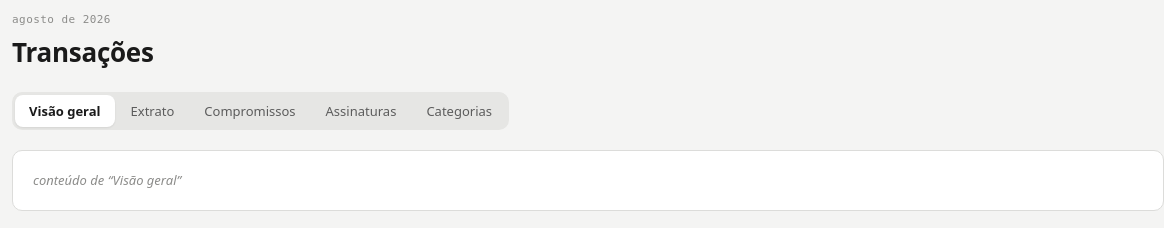
Test case: TelaTransacoes › mostra a tela de Compromissos ao selecionar o segmento Compromissos
Step 1. Click the tab "Compromissos" → (250, 110), box [190,94,310,126]
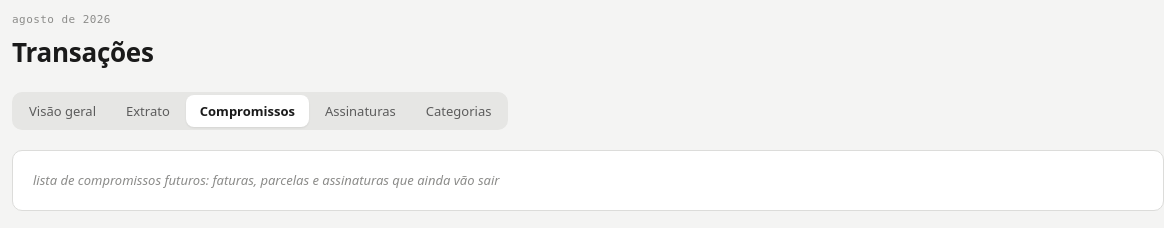
Check: the text "compromissos futuros" is shown, box [33,170,500,188]
